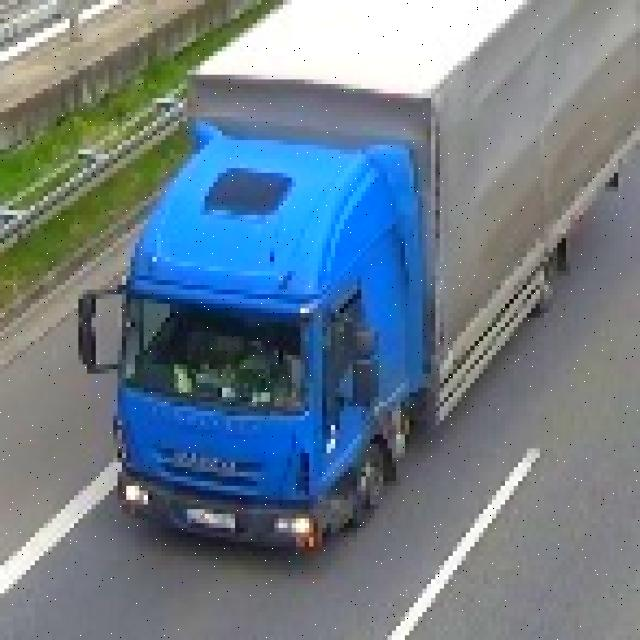truck: (83, 0, 640, 556)
